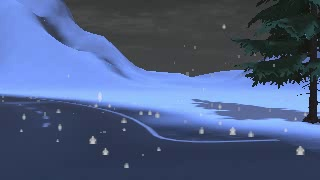Lane: (1, 94, 319, 179)
